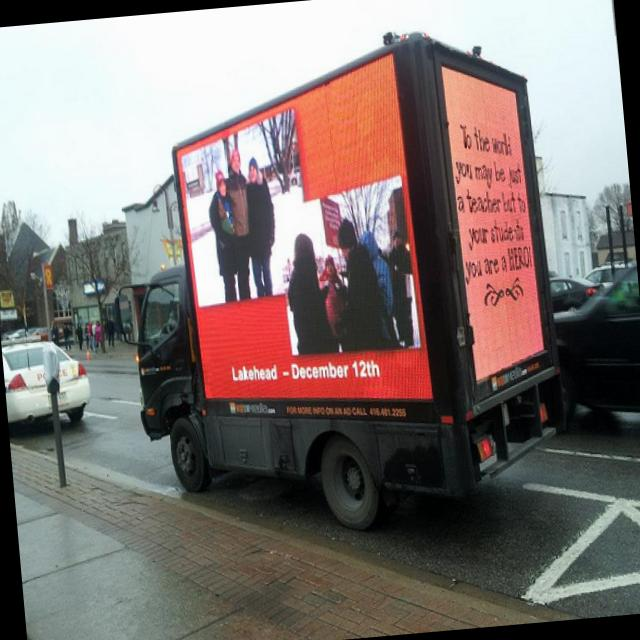Vehicle: (104, 19, 572, 552), (547, 253, 640, 430), (1, 334, 92, 439), (548, 270, 606, 314), (578, 259, 634, 295), (28, 326, 48, 342)
